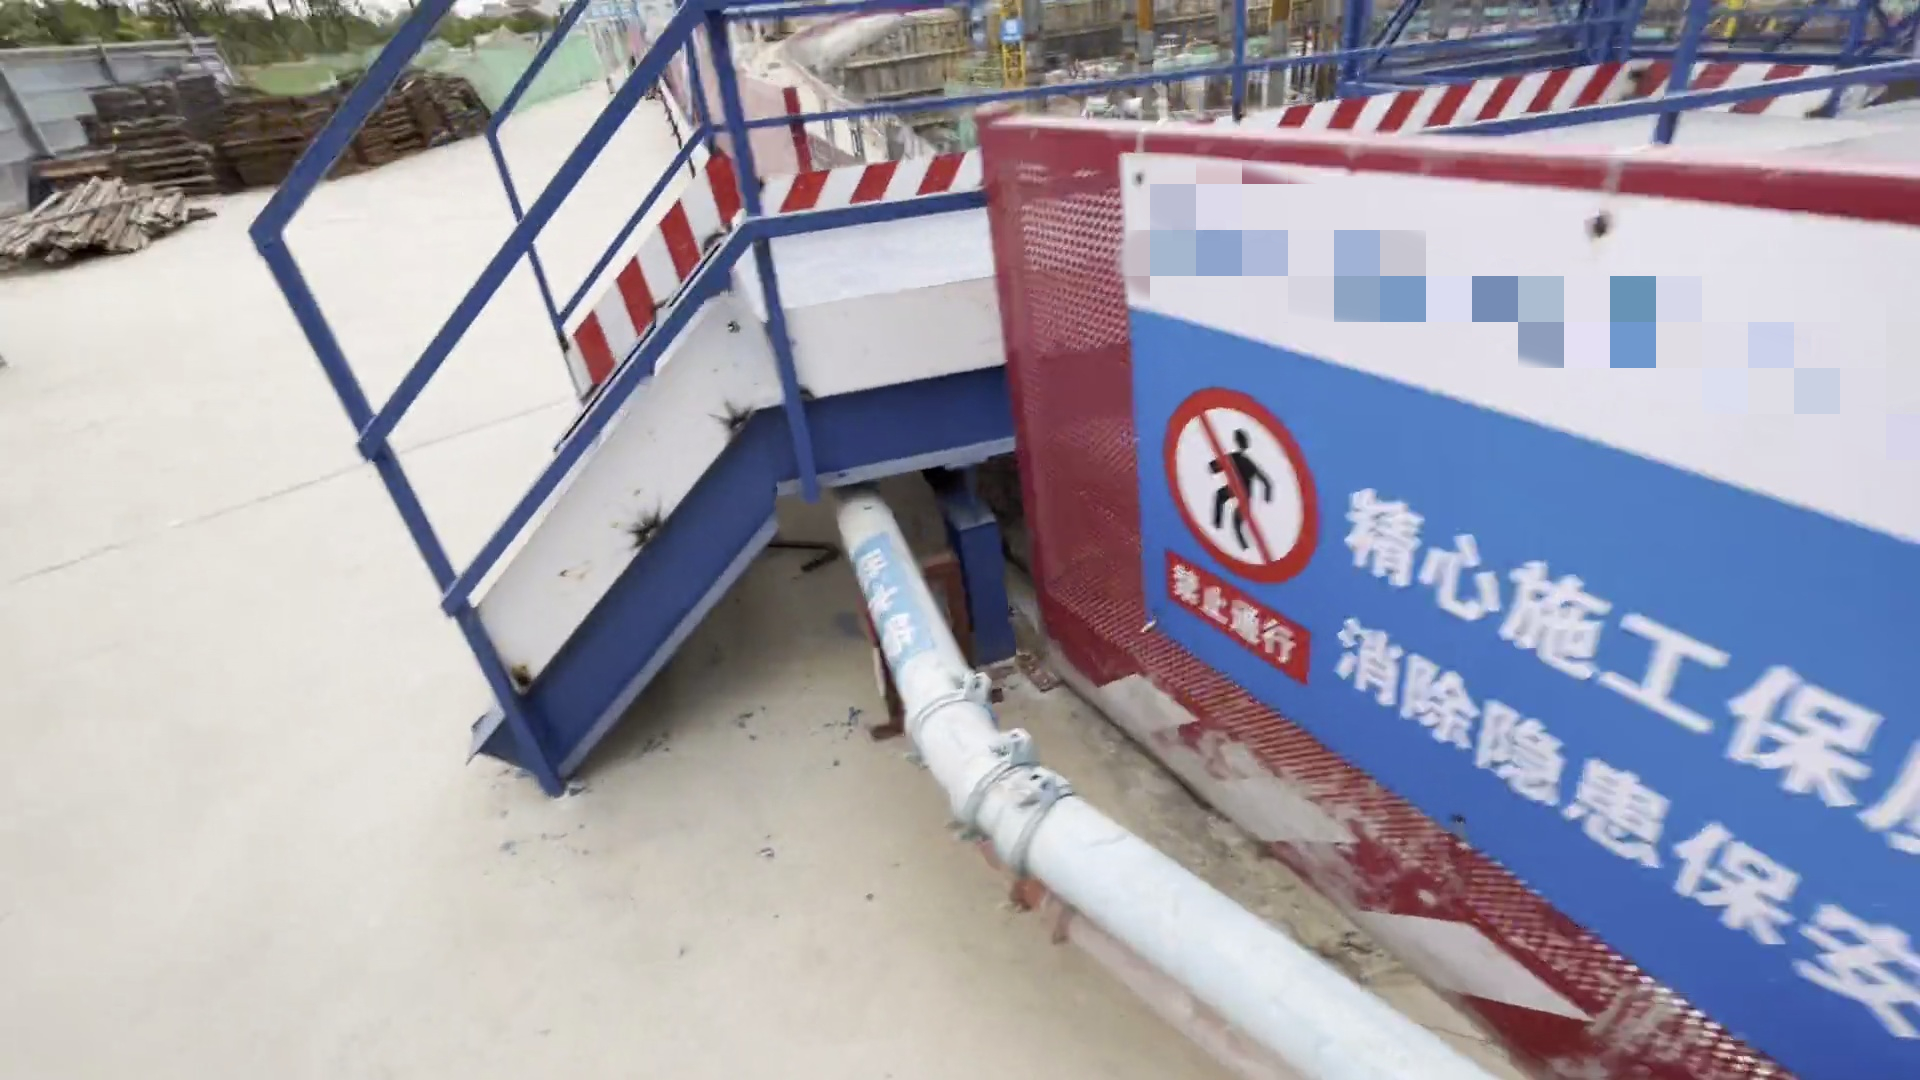fence: (829, 92, 1920, 1013)
slogan: (1091, 158, 1920, 997)
wood: (4, 175, 190, 268)
